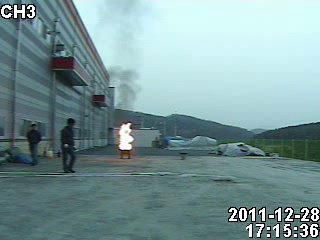fire: (114, 116, 134, 152)
